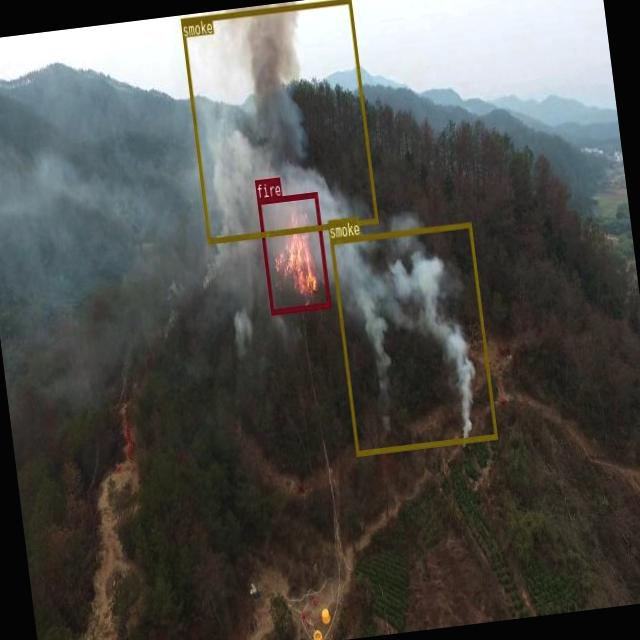fire: (256, 190, 331, 314)
smoke: (180, 0, 377, 242), (329, 220, 497, 454)
